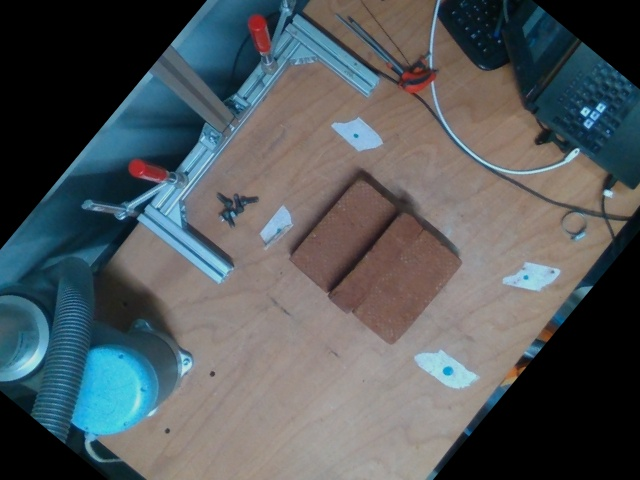brick: (289, 175, 400, 291), (354, 230, 463, 346)
brick-side: (326, 211, 426, 318)
